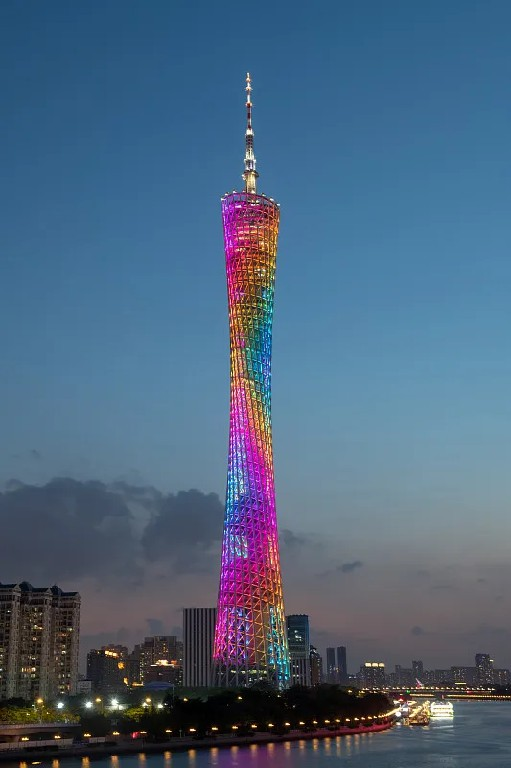Canton: (202, 70, 297, 689)
